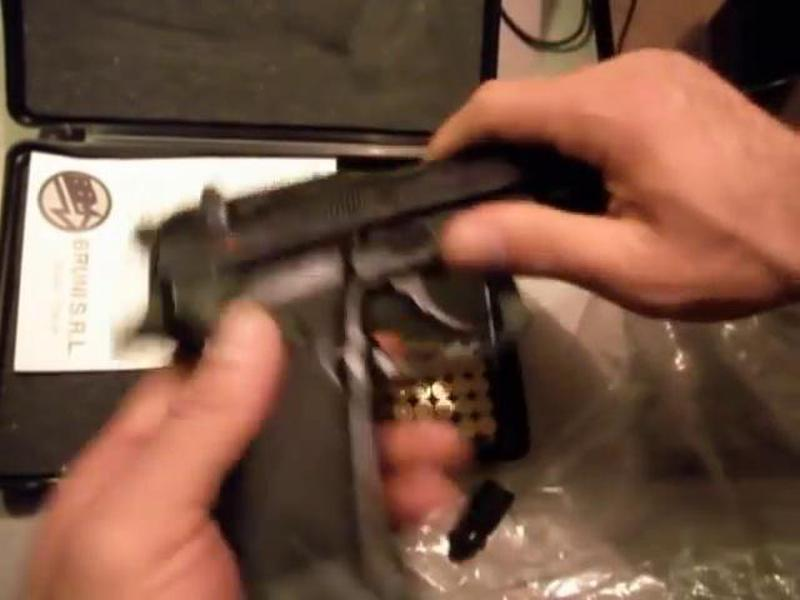Pistola: (123, 109, 662, 574)
